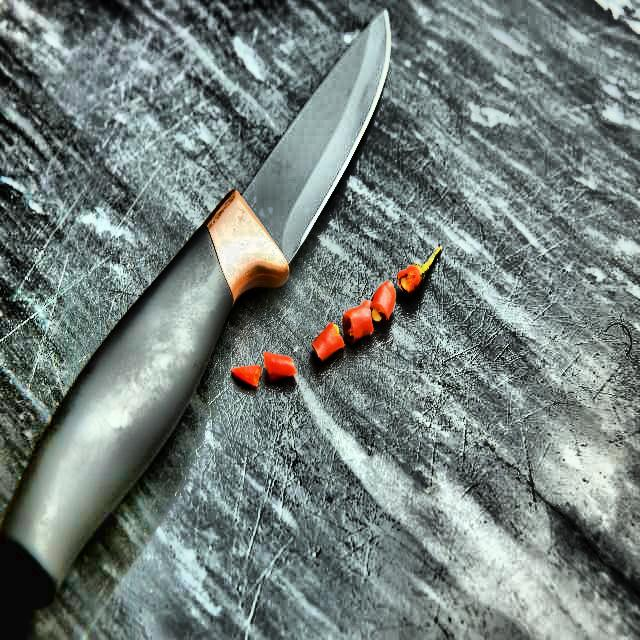knife: (0, 4, 398, 606)
